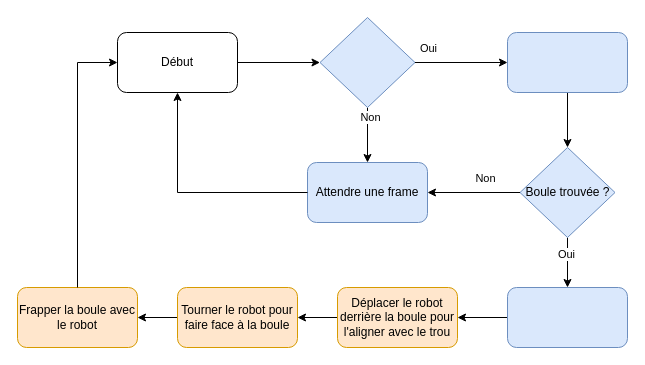
Image size: 645x365. Some labels were removed from this diagram. Each missing label, with the centre of its shape:
Recherche de la boule la plus proche du robot: the point at 567,62
Recherche du trou le plus proche de cette boule: the point at 567,317
Robot(s) trouvé(s) ?: the point at 367,62
